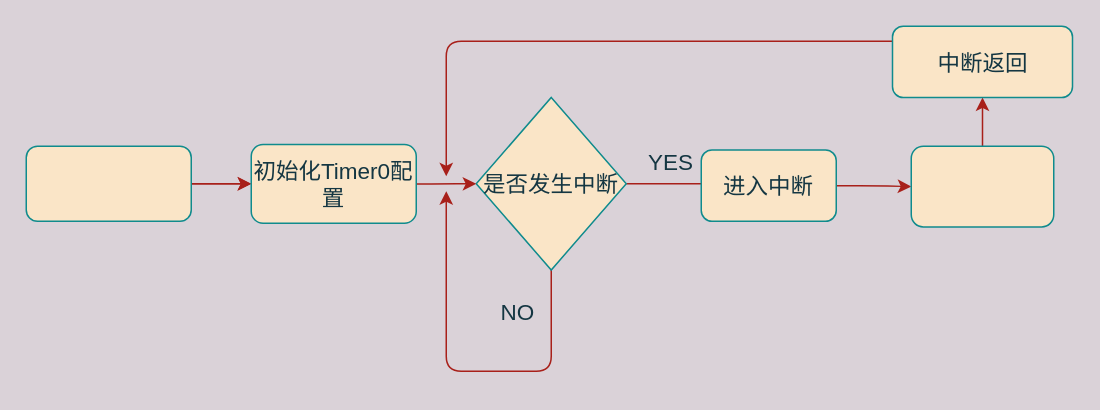
The diagram is 1100 pixels wide and 410 high, and some of its shapes have lost their labels. The shapes that lost their labels are listed below. From the top down, each one's centre as x and y in pixels, then its label:
At (108,183): "初始化端口&中断参数".
At (982,186): "PORTA取反/ 恢复Timer0参数".
